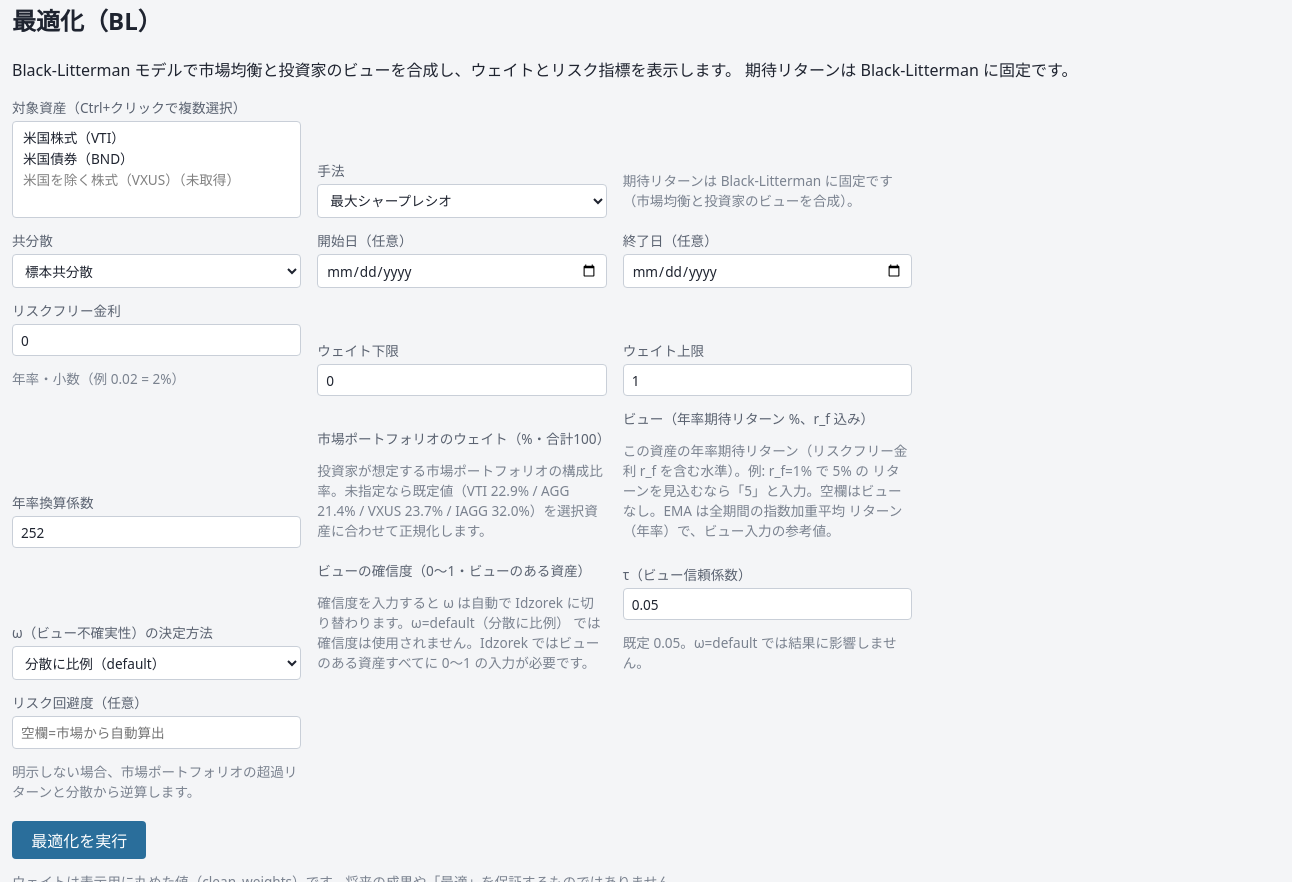
Test: BlOptimizationScreen › 市場ウェイトの合計が100%でない場合はバリデーションエラー
Step 1. Select "us_equity, us_bond" in the dropdown labelled "対象資産（Ctrl+クリックで複数選択）" → (157,169), box [12,121,301,218]
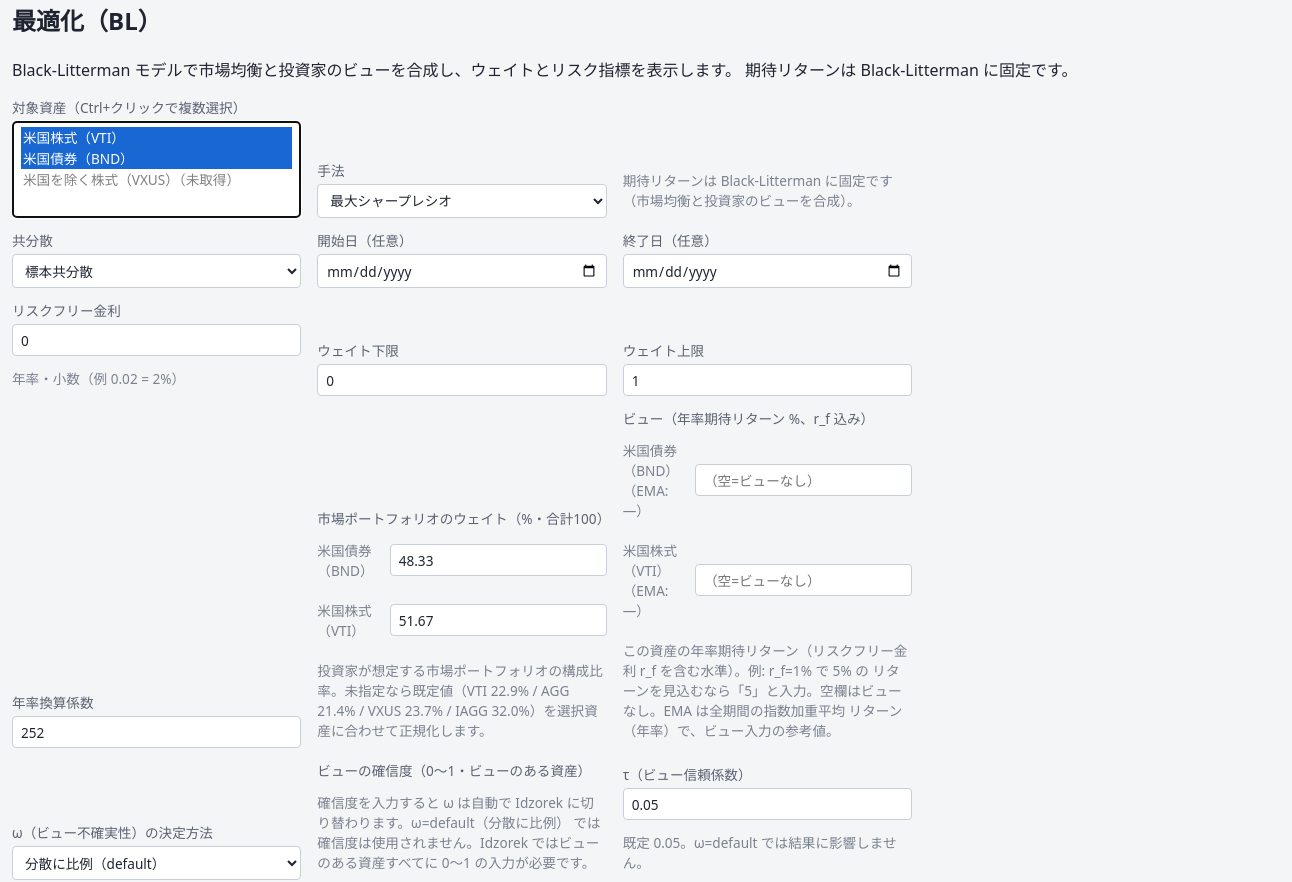
Step 2. Replace the text in the 7th number field with "10" → (498,620), box [390,604,607,636]
(page scrolled)
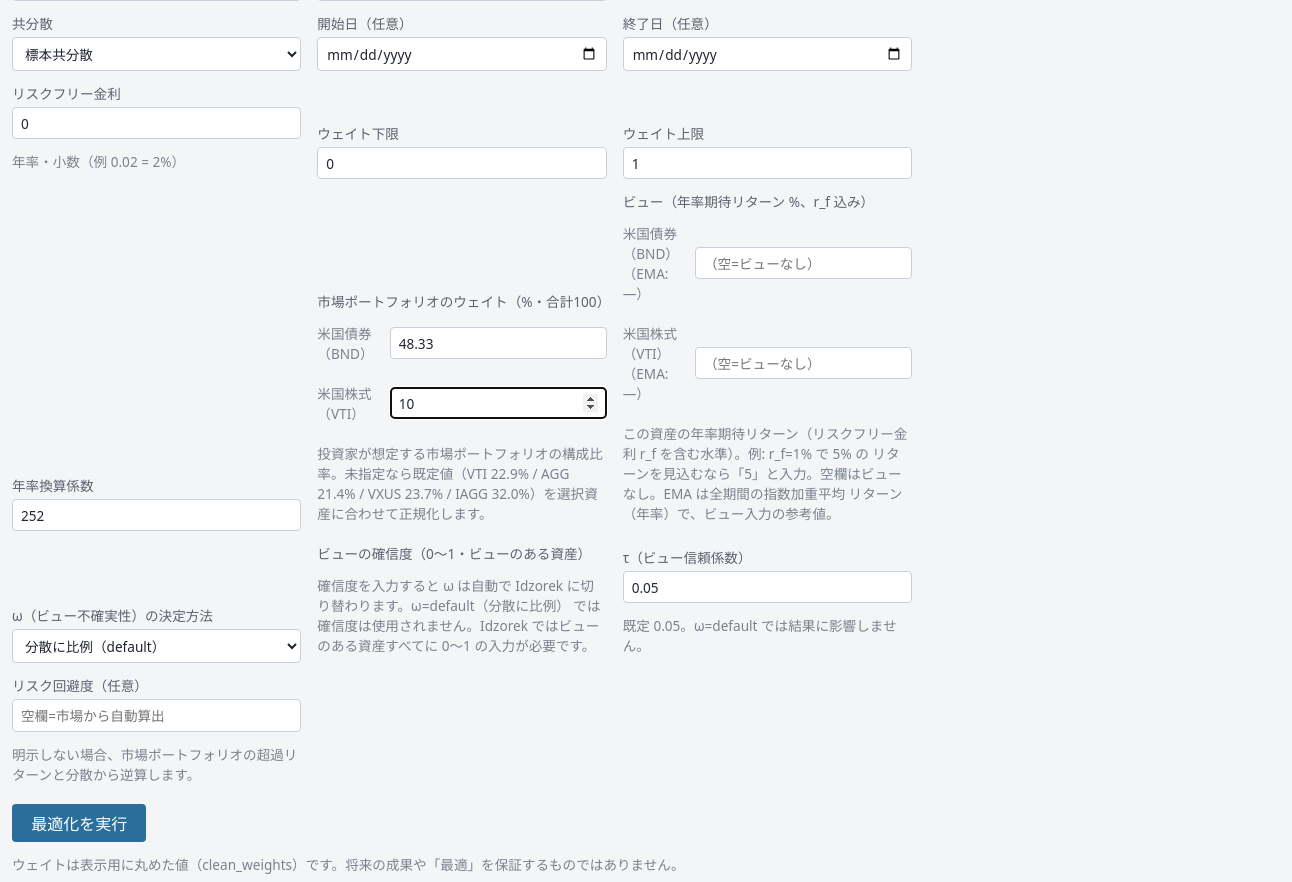
Step 3. Click the button "最適化を実行" → (79,823), box [12,804,146,842]
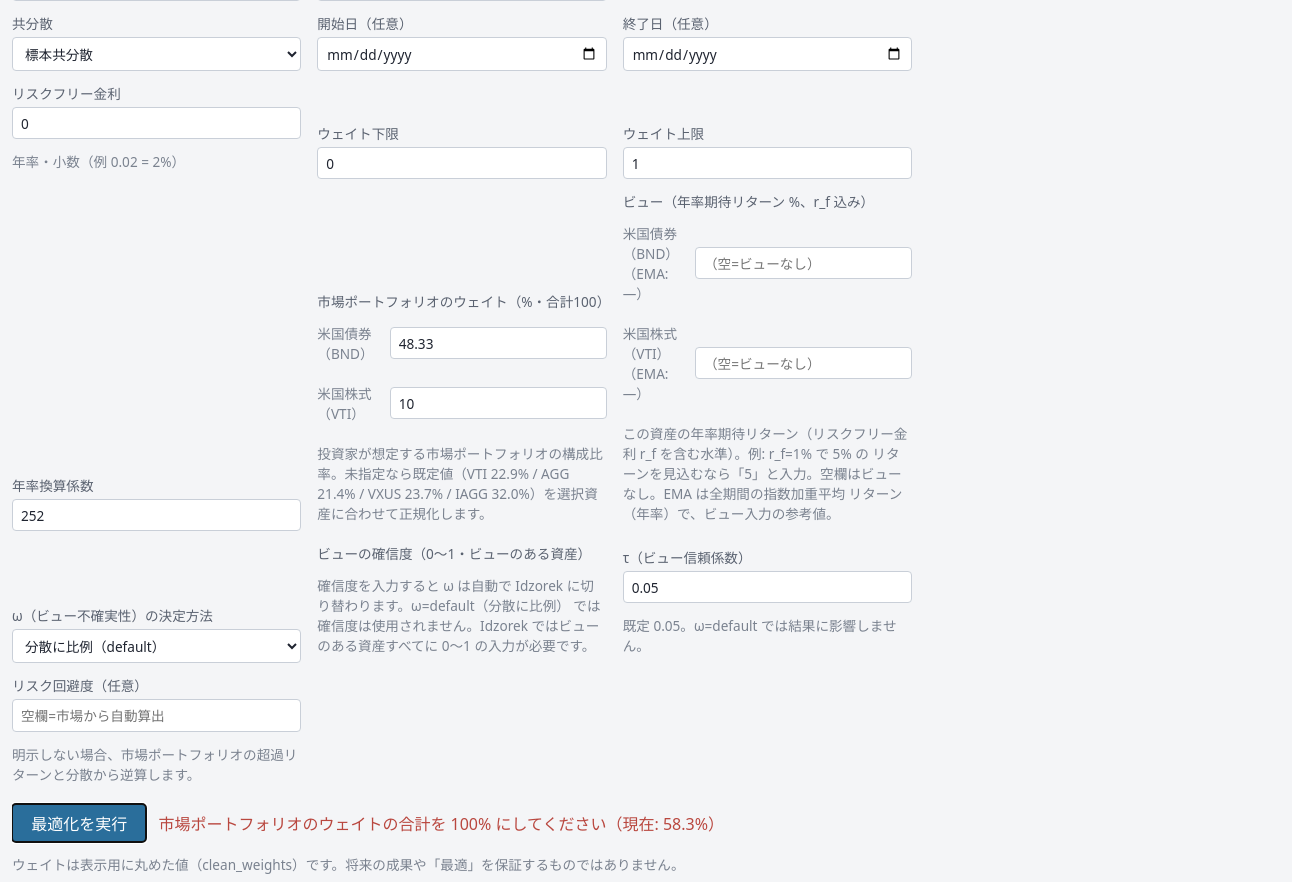
Expected: the text "市場ポートフォリオのウェイトの合計を 100% にしてください（現在: 58.3%）" is shown, [158,811,724,835]
